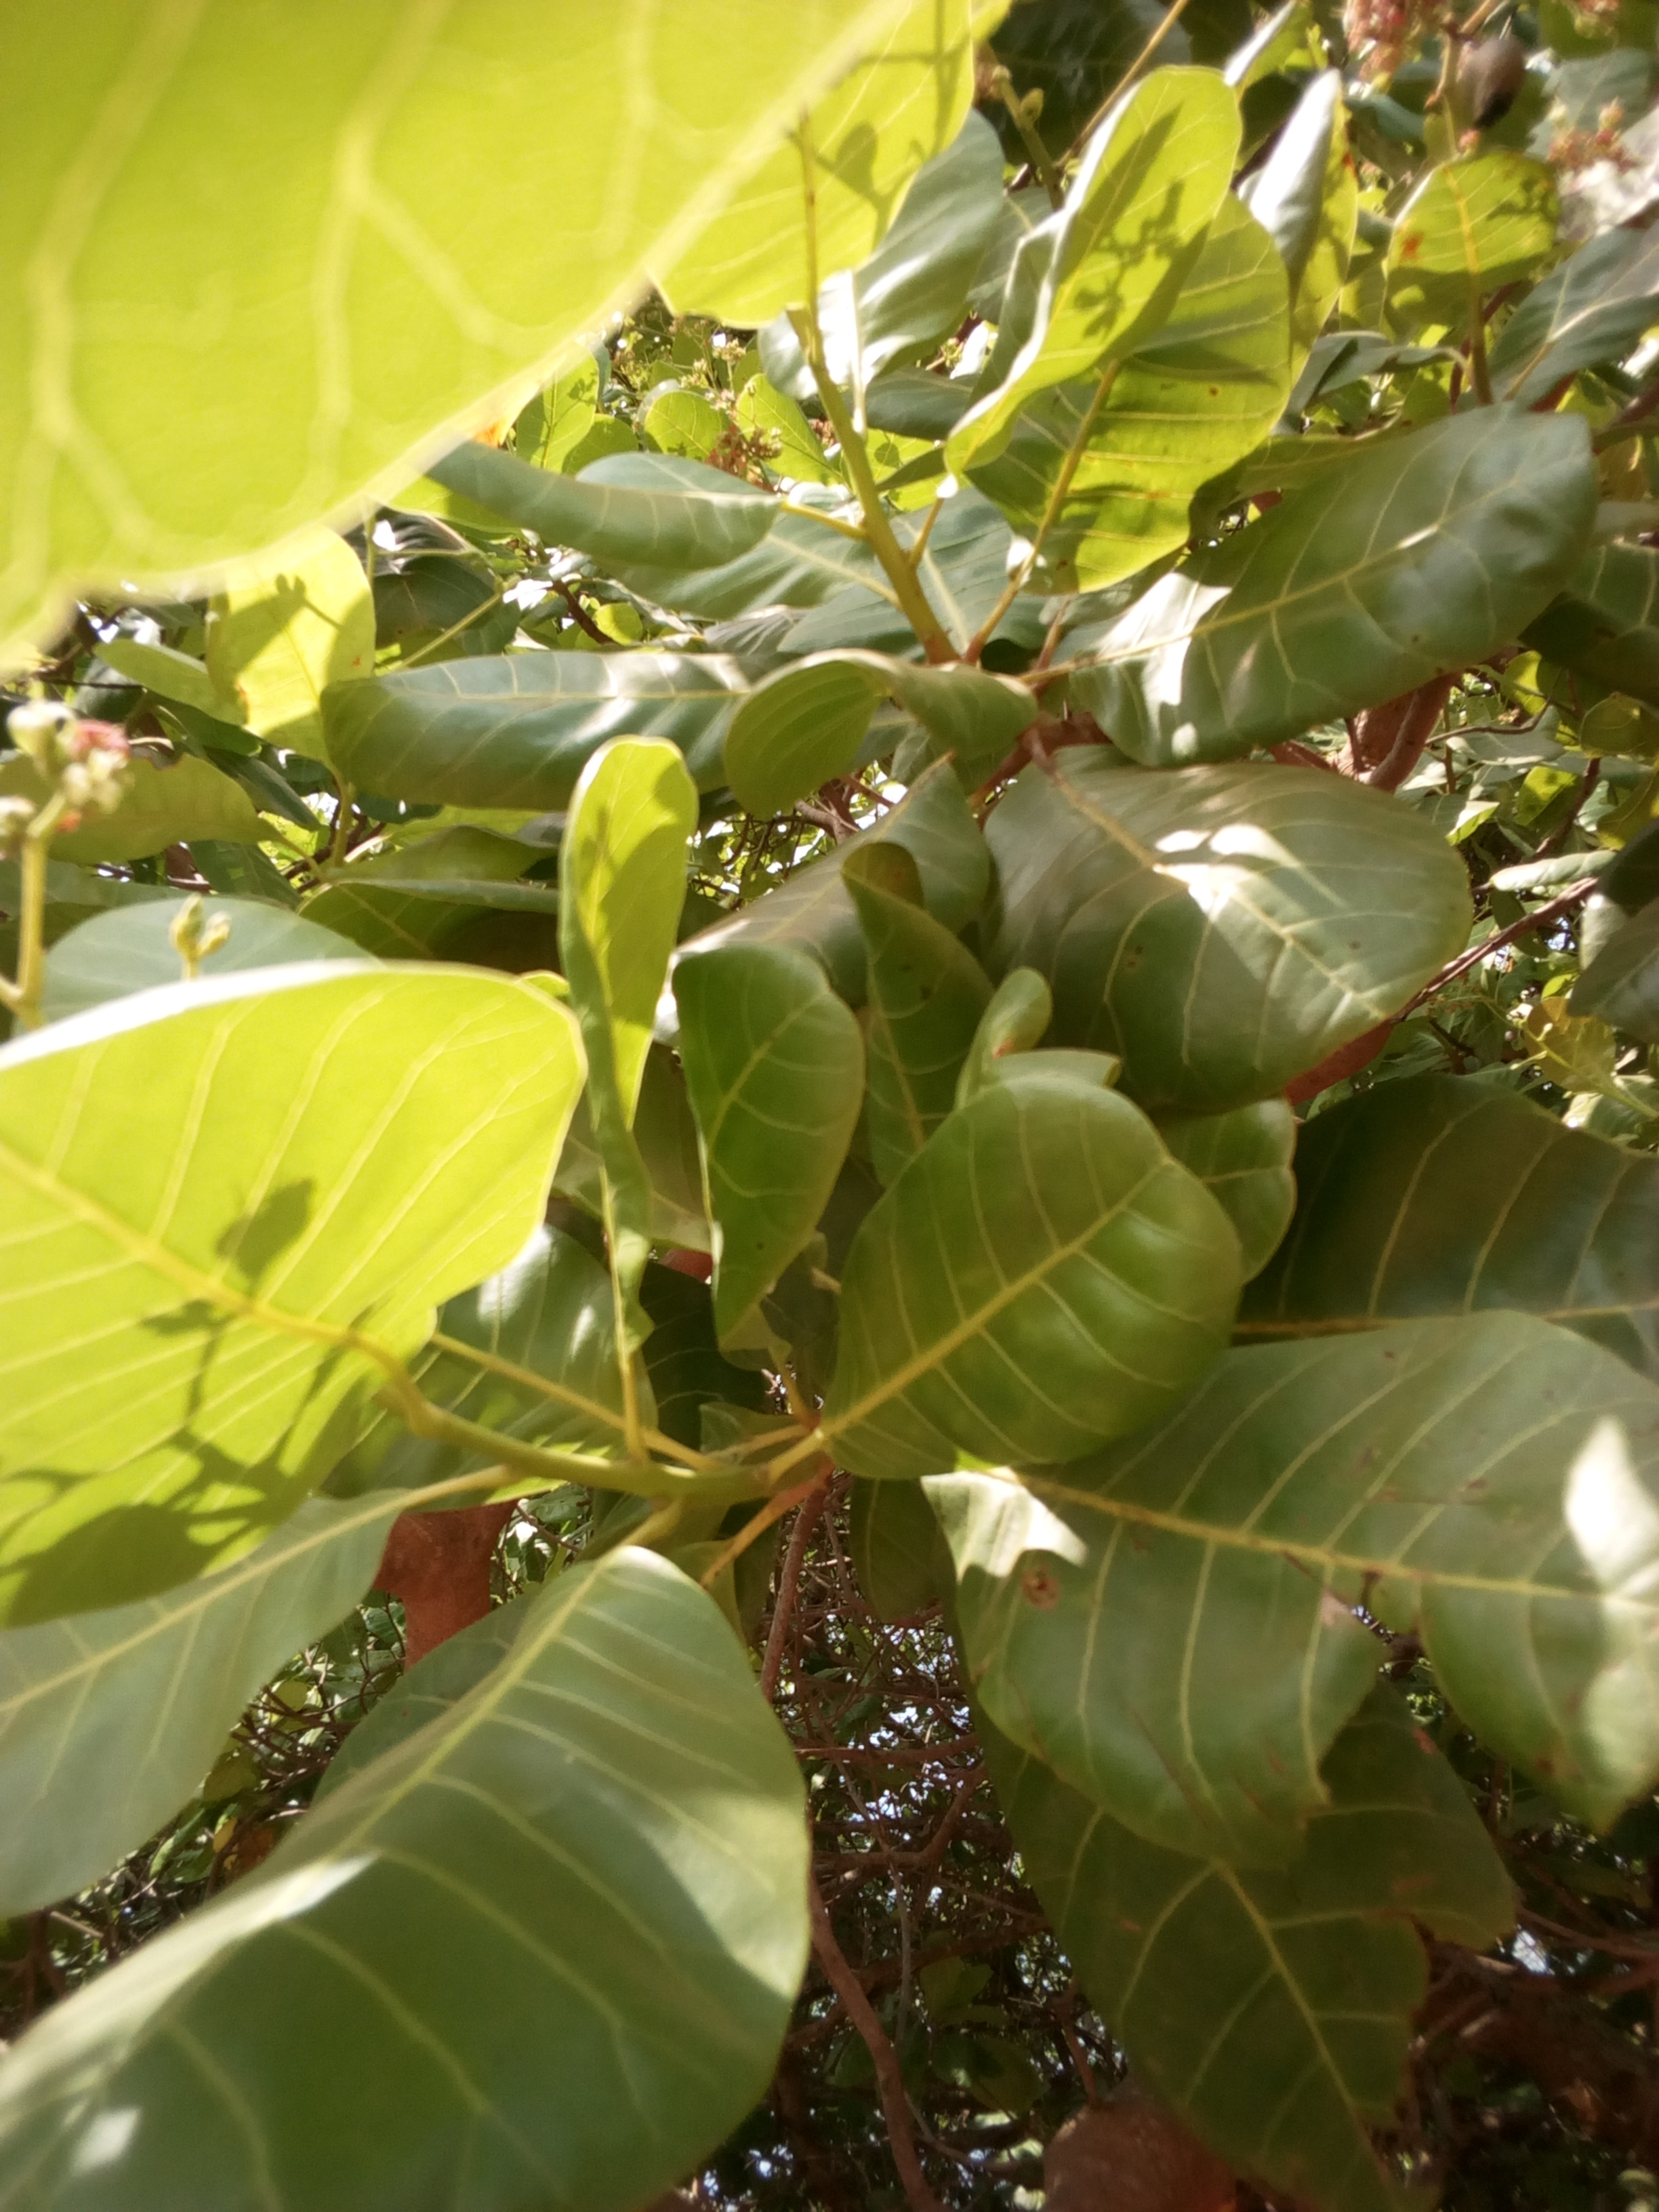Helopeltis anacardii: (1009, 1320, 1659, 1862), (805, 1075, 1249, 1486), (969, 56, 1290, 601), (558, 733, 704, 1442)
